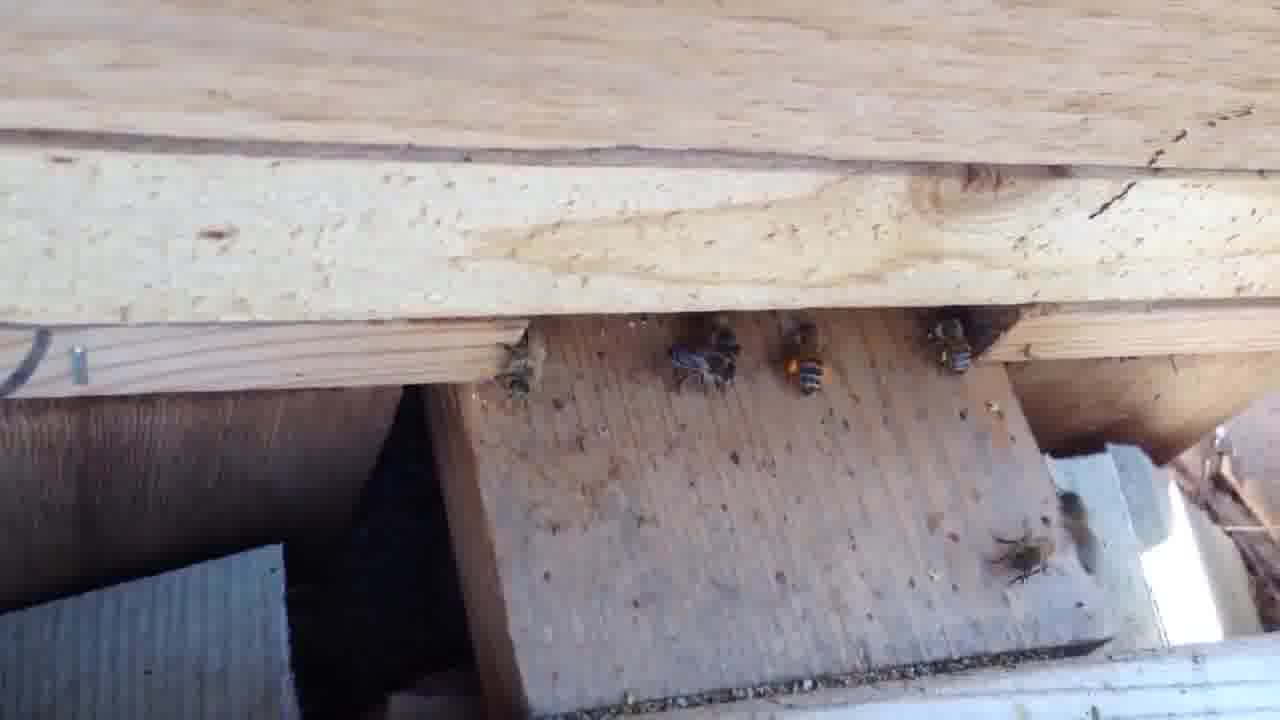pollen: (785, 323, 837, 404)
